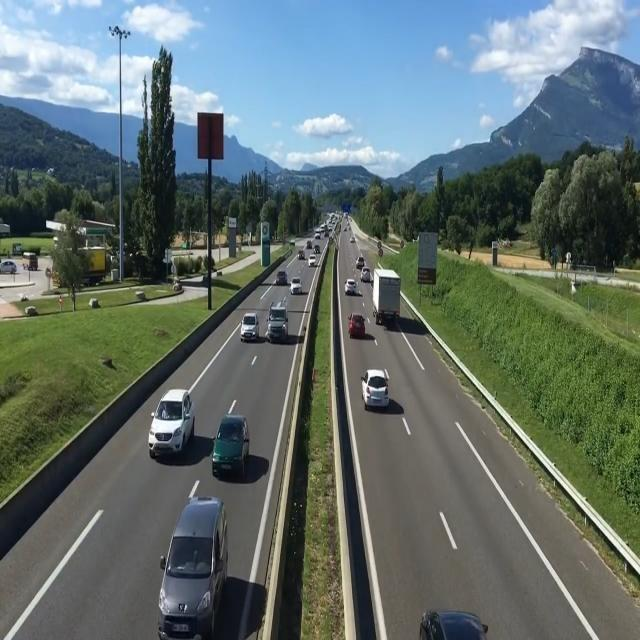Car: (154, 494, 228, 640), (148, 388, 196, 458), (209, 414, 250, 478), (419, 608, 490, 640), (361, 369, 391, 409), (266, 302, 288, 342), (240, 312, 260, 342), (348, 314, 366, 338), (290, 278, 302, 294), (344, 278, 356, 294), (275, 271, 287, 285), (360, 267, 371, 282), (308, 254, 317, 267)
Truck: (374, 268, 402, 324)
